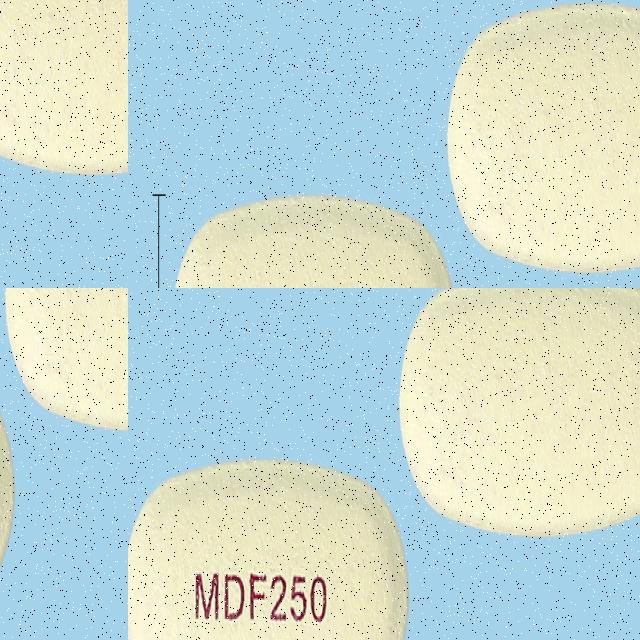Clabio - 500mg: (3, 288, 128, 438)
Clarid - 250mg: (397, 288, 640, 537), (128, 456, 412, 640)
Clratomin - 500mg: (0, 0, 128, 162)
Clycin: (439, 8, 640, 253), (171, 218, 459, 288)
